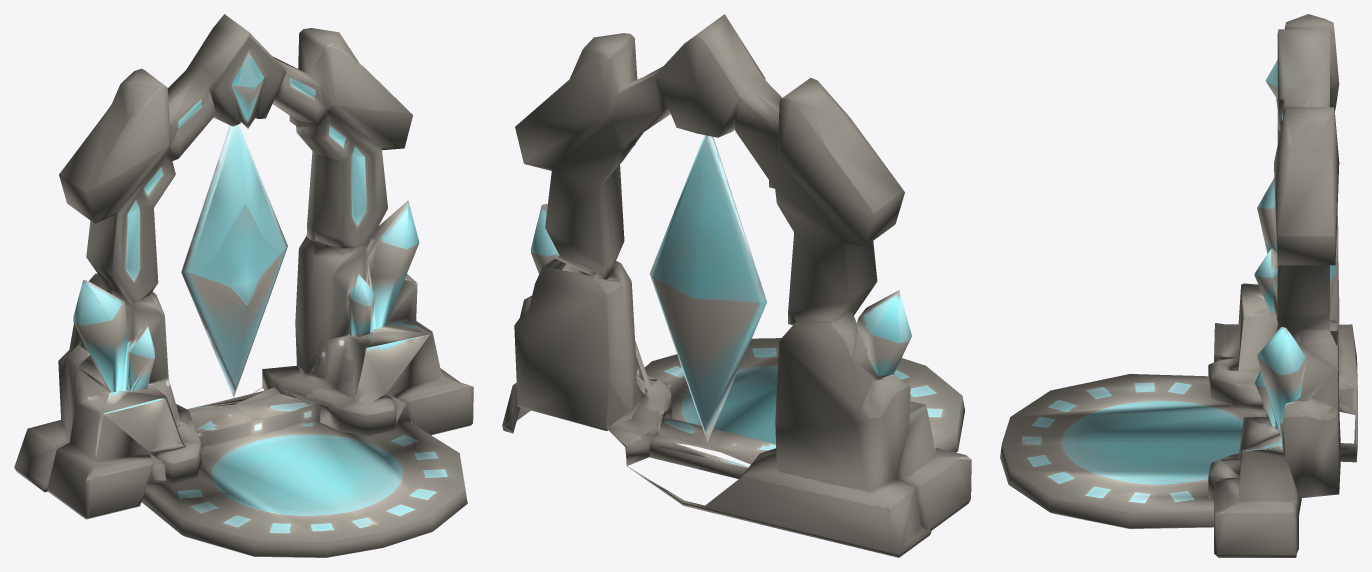
Rendered from warp_crystal.glb.
3 views of the same model, side by side, from view 1: azimuth 30°, elevation 25°; view 2: azimuth 150°, elevation 25°; view 3: azimuth 270°, elevation 25° (orthographic). The views are drawn at different scales.
Parts seen in each view (by area): view 1: mesh_rep_0_ori_repair, CrystalRotor; view 2: mesh_rep_0_ori_repair, CrystalRotor; view 3: mesh_rep_0_ori_repair.
Part boxes in pixels (<box>): mesh_rep_0_ori_repair: <box>14,14,473,557</box>; CrystalRotor: <box>181,124,287,397</box>; mesh_rep_0_ori_repair: <box>502,14,971,557</box>; CrystalRotor: <box>649,135,766,441</box>; mesh_rep_0_ori_repair: <box>1000,14,1357,557</box>.
Size of the model in its own units: 4.8 by 4.92 by 3.69.
Materials: 1 (1 with a texture image).
